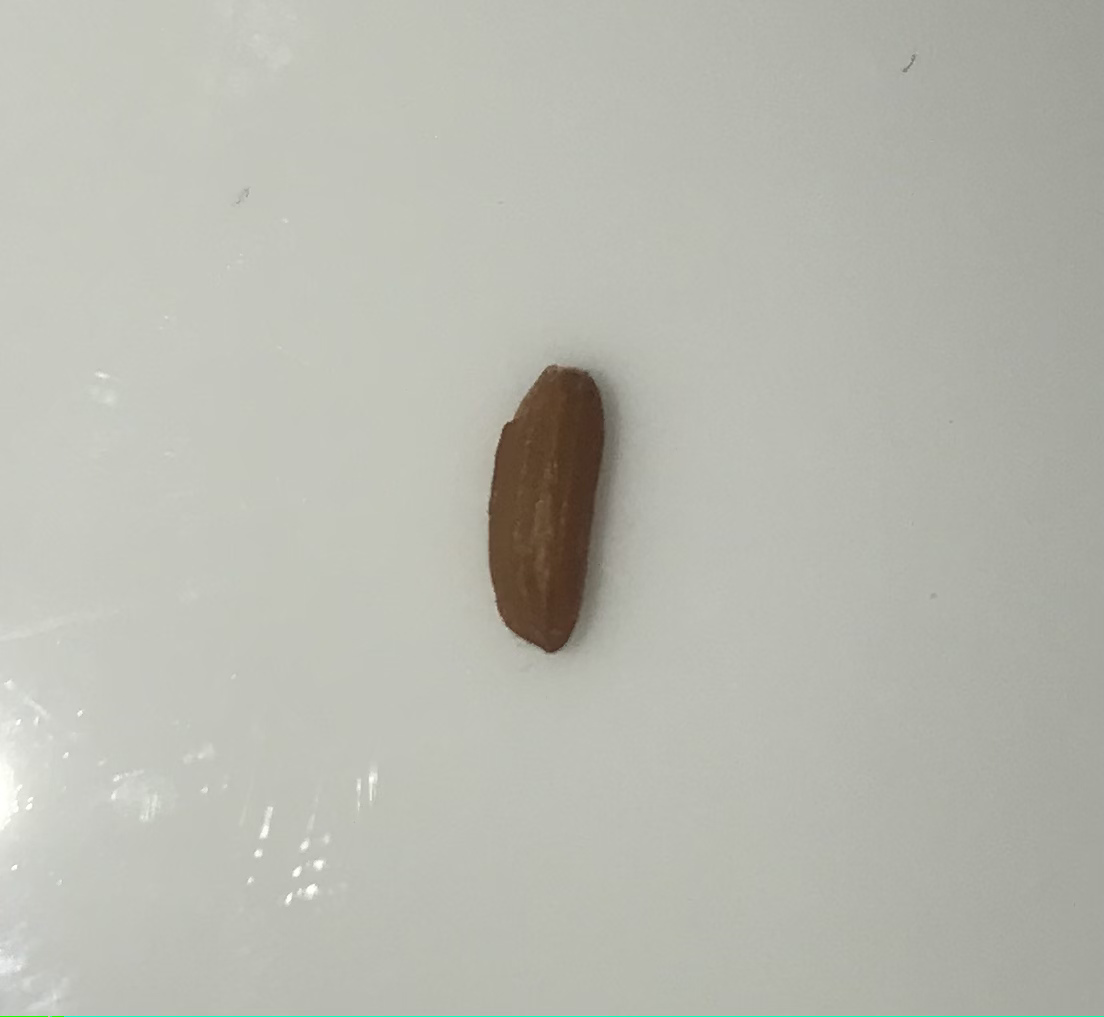Gao Lut Dien Bien: (477, 361, 608, 658)
